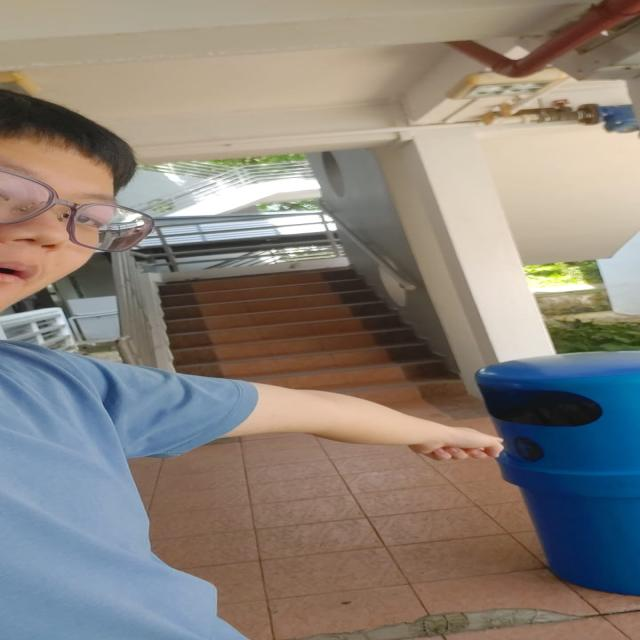bin_empty: (471, 352, 638, 592)
